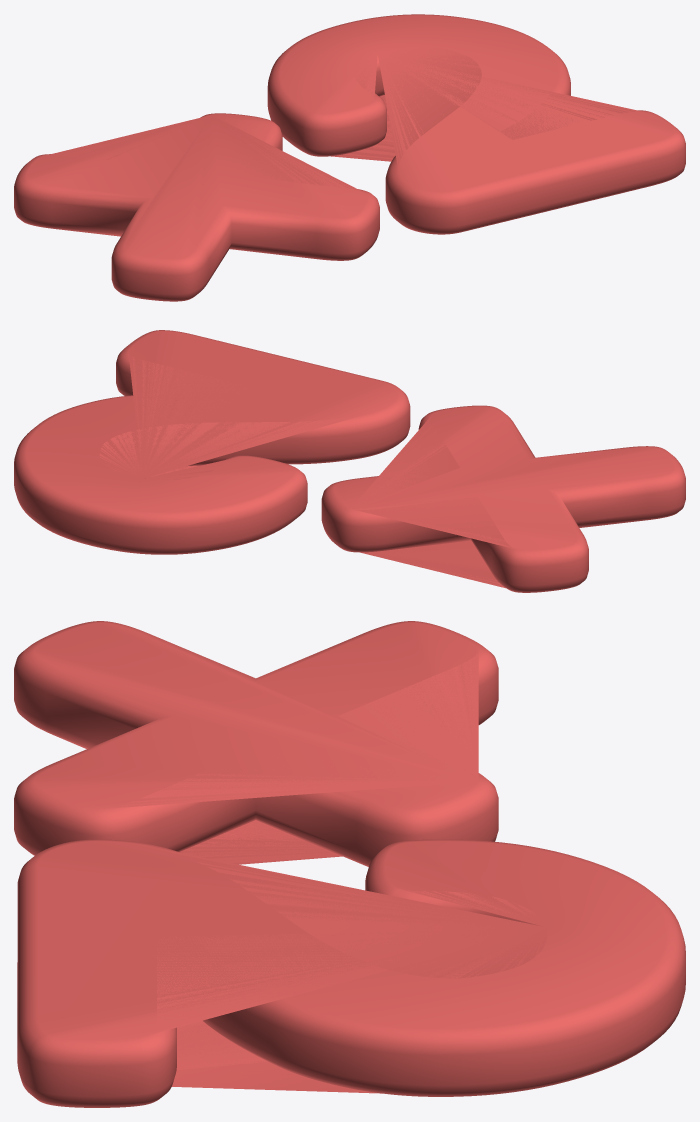
The picture shows the model from 3 angles, top to bottom: view 1: azimuth 30°, elevation 25°; view 2: azimuth 150°, elevation 25°; view 3: azimuth 270°, elevation 25°; orthographic projection. The views are drawn at different scales.
Parts seen in each view (by area): view 1: x2; view 2: x2; view 3: x2.
Boxes of the visible parts, box(x1,y1,x2,y2) form: x2: box(14, 14, 685, 301); x2: box(14, 330, 685, 592); x2: box(14, 621, 685, 1107).
Size of the model in its own units: 336 by 23.92 by 220.
